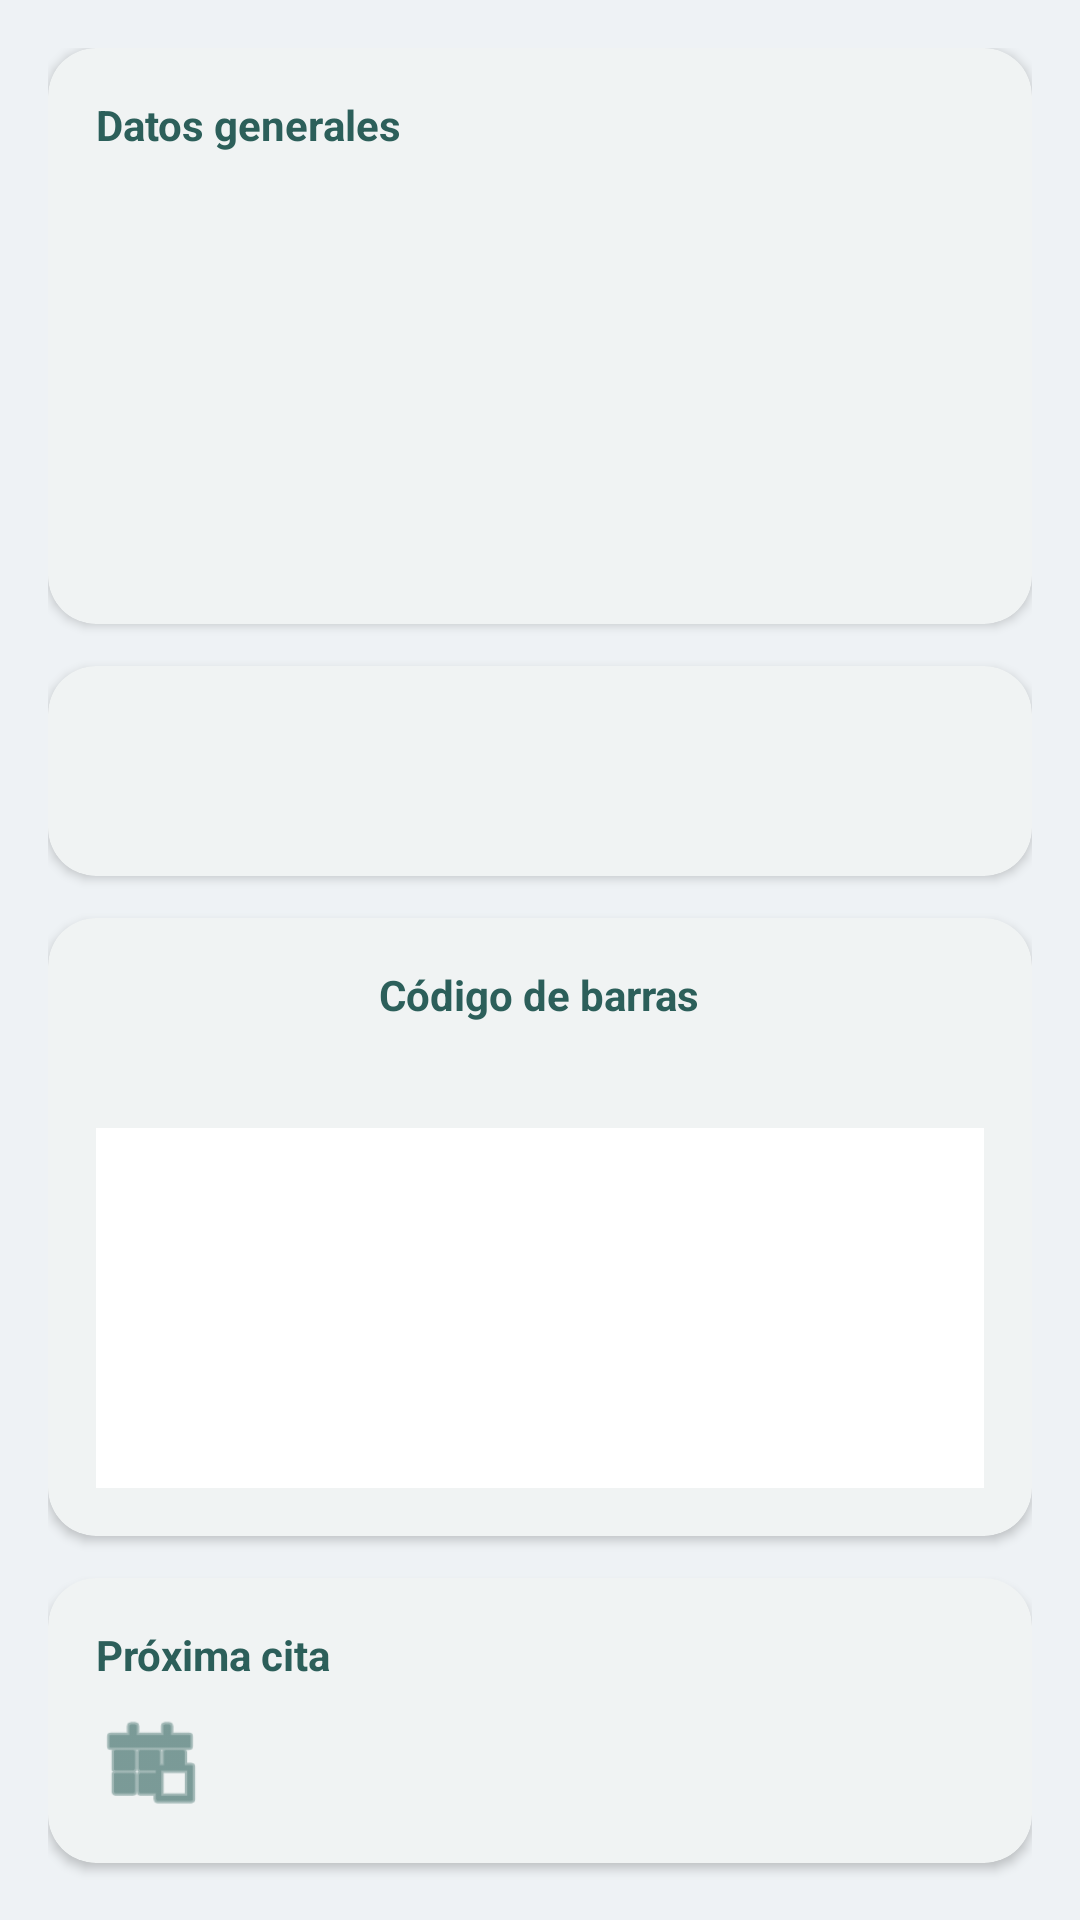

Point at icon controls on the screen. Image size 1080 x 1920, points as (x=x, y=y).
today: (x=151, y=1763)
